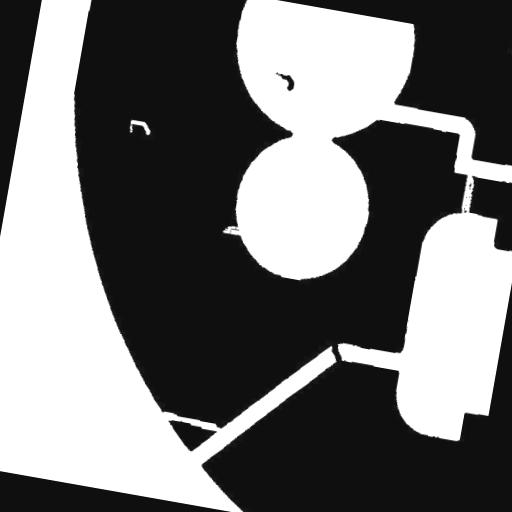copper: (264, 62, 304, 100)
mousebite: (213, 215, 252, 244)
open: (152, 402, 230, 440), (450, 158, 484, 230)
pin-hole: (120, 110, 160, 144)
short: (316, 326, 355, 374)
